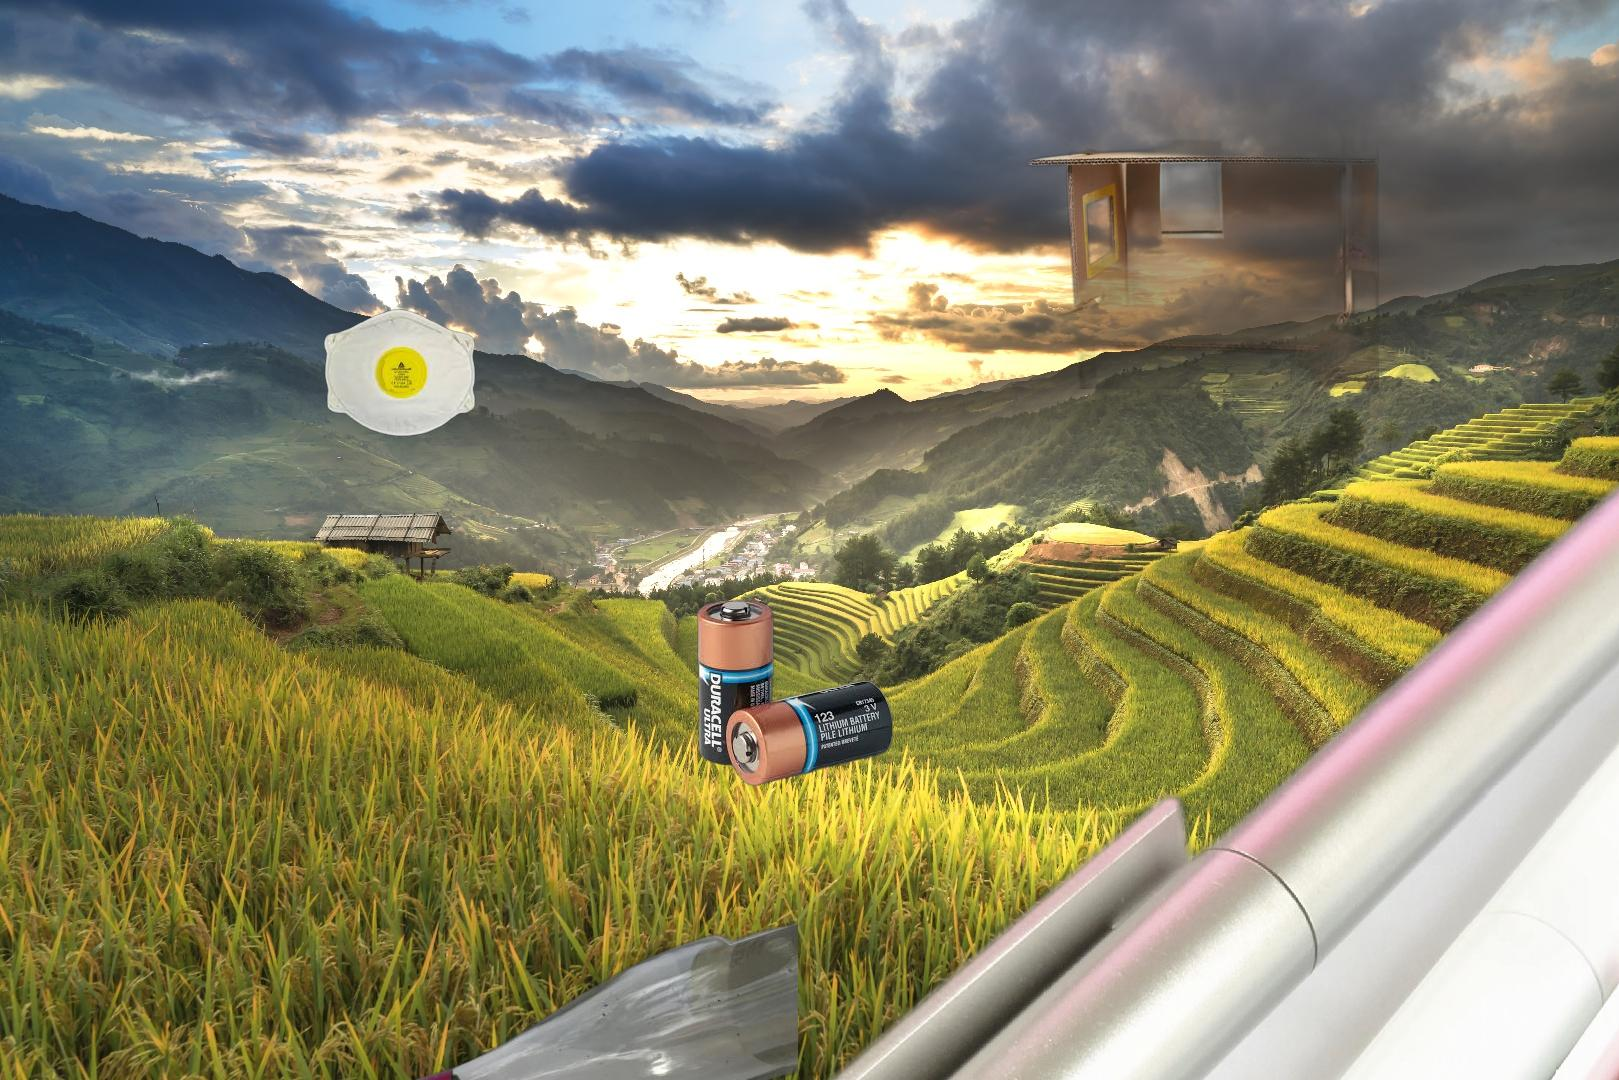battery: (694, 597, 896, 788)
glass: (330, 917, 798, 1080)
penholder: (687, 312, 1619, 1080)
trash: (321, 306, 479, 439)
trashbox-cardboard: (970, 78, 1379, 389)
